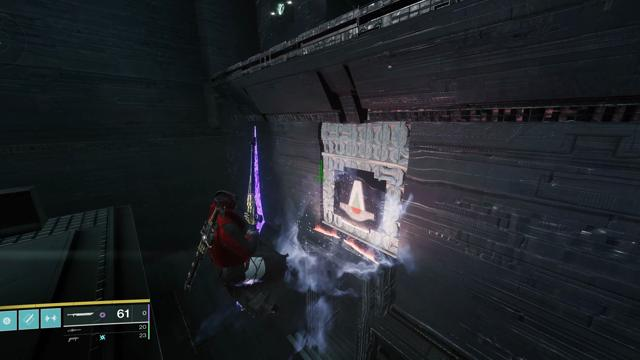enter: (338, 175, 378, 222)
